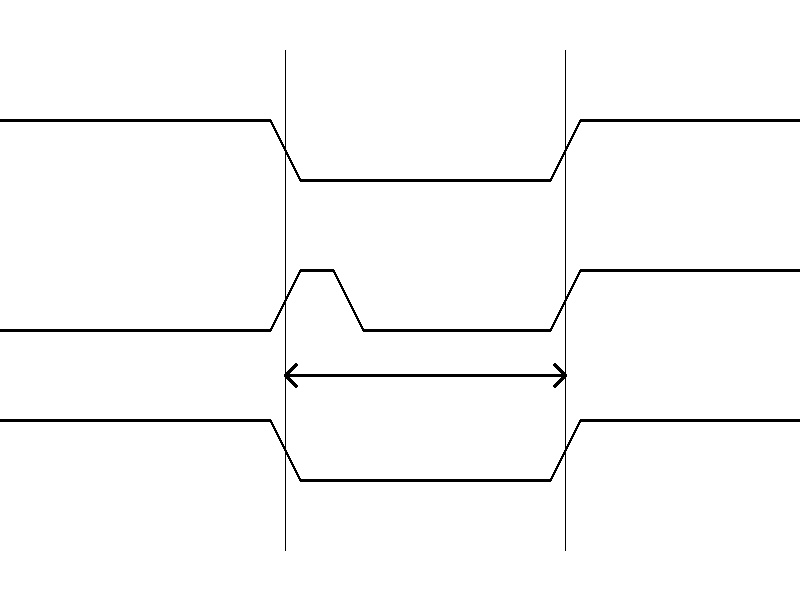double_arrow: (285, 360, 565, 390)
